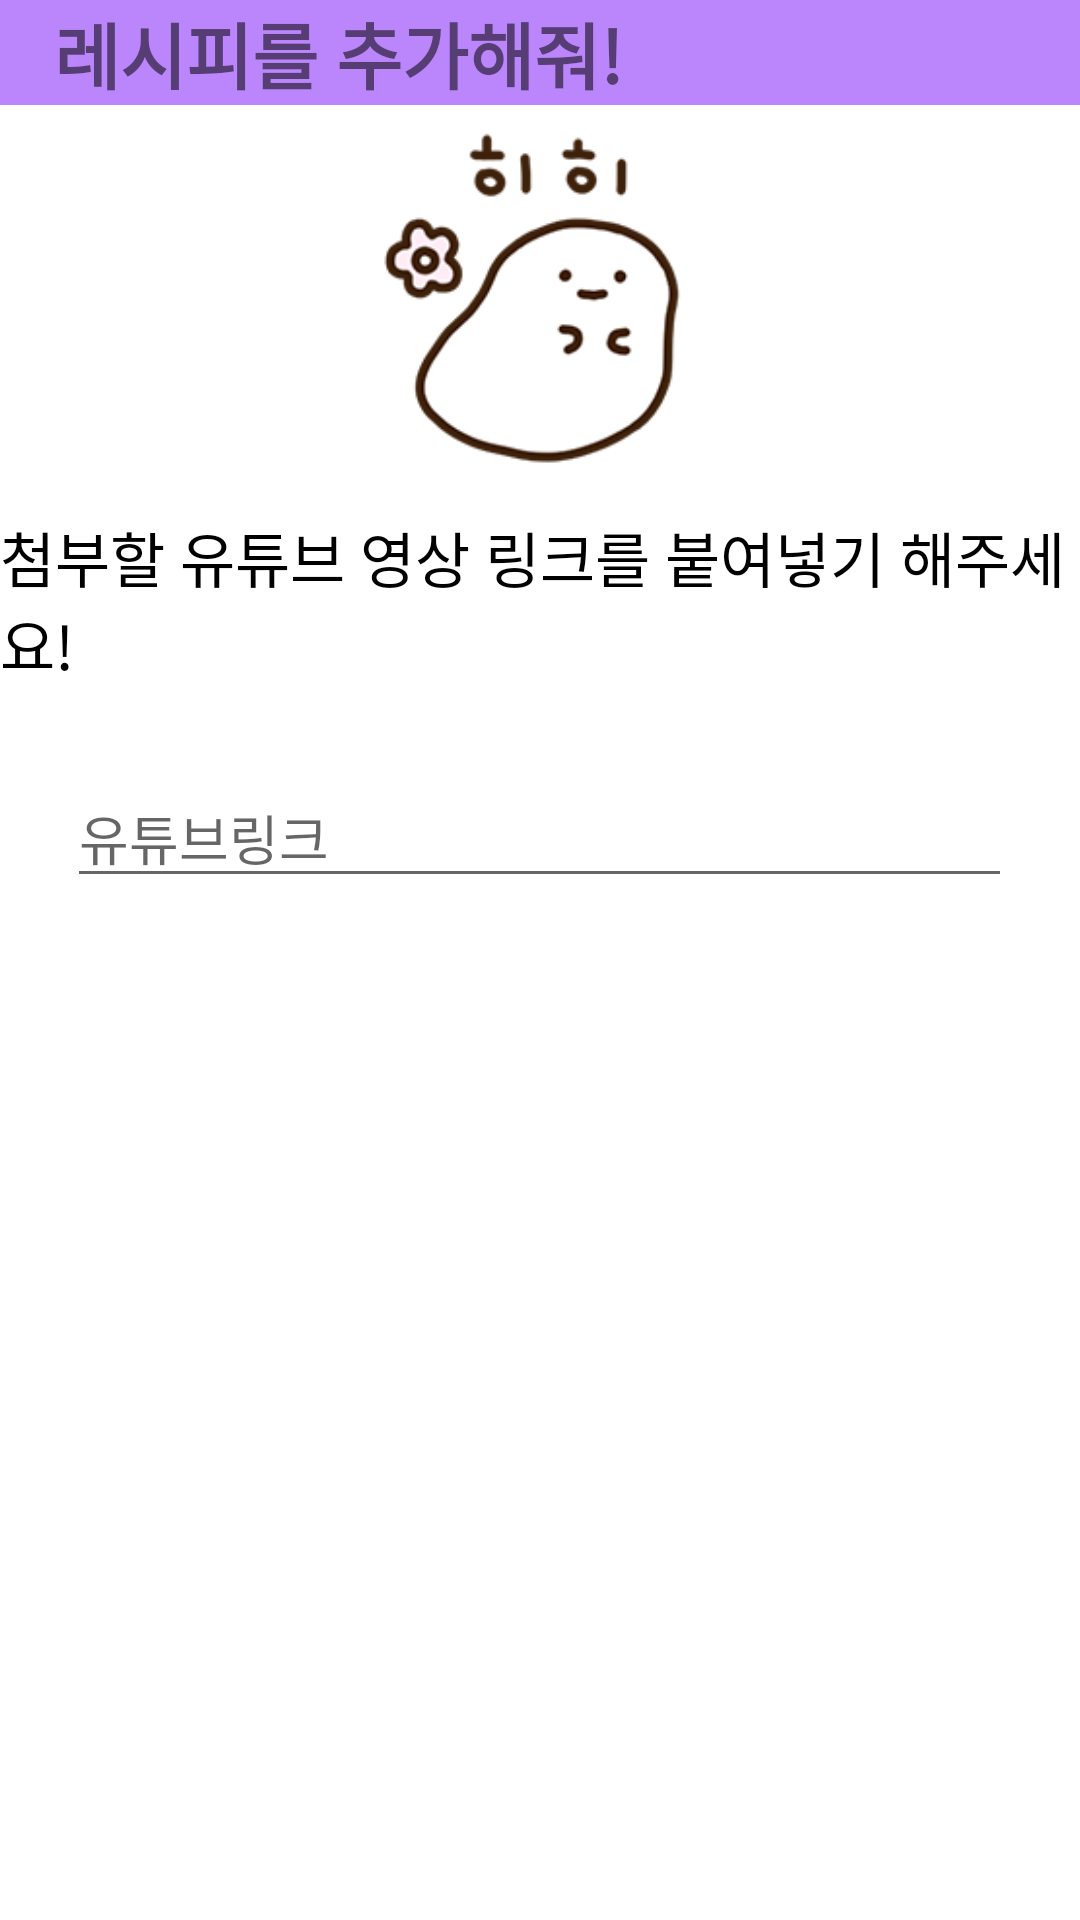

Named icons in this screenshot (1080x1920) and their bounding boxes, [x1, y1, x2, y2]:
smile: [384, 134, 680, 463]
